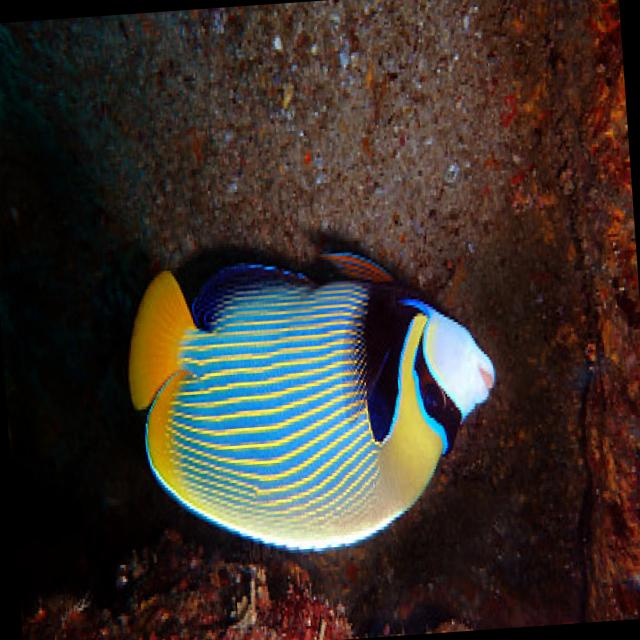AngelFish: (123, 244, 504, 564)
